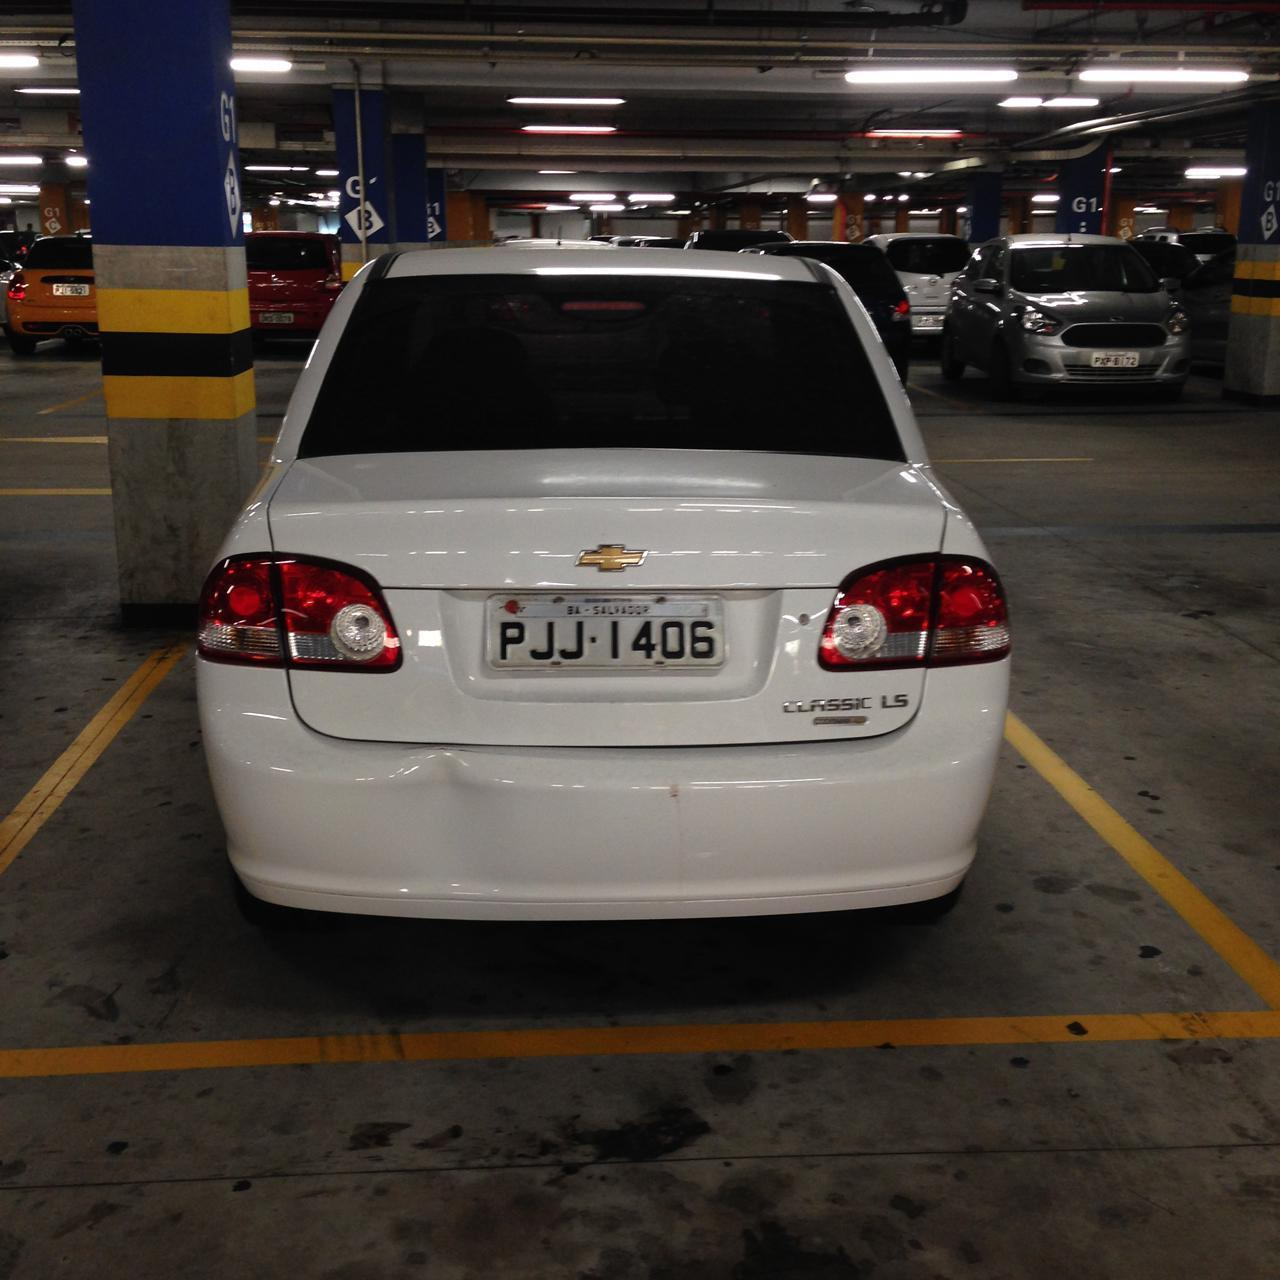placa de veiculo: (473, 566, 754, 699)
